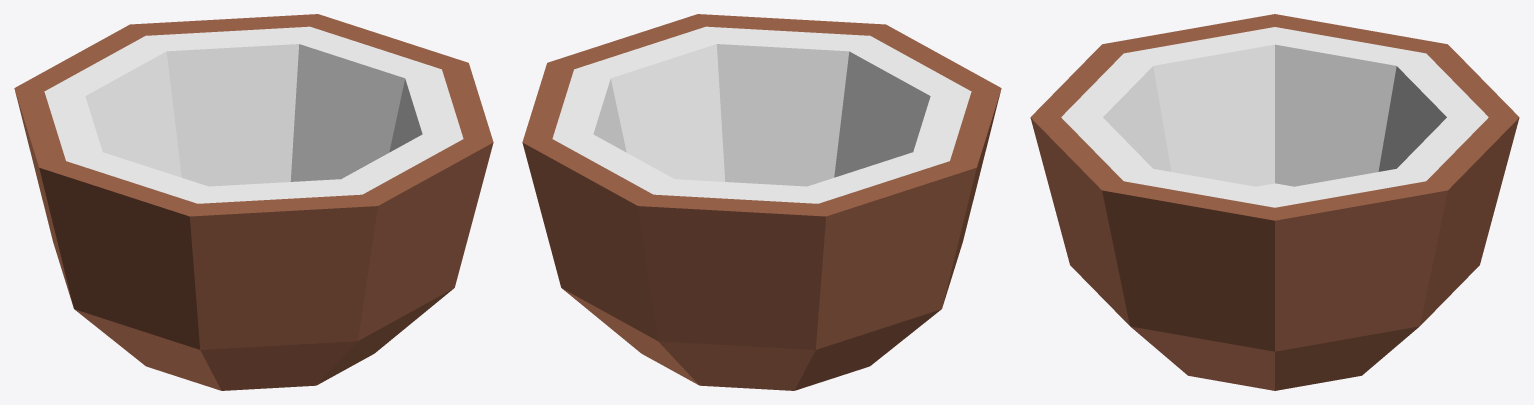
File: coconutHalf.fbx
The picture shows the model from 3 angles, left to right: view 1: azimuth 30°, elevation 25°; view 2: azimuth 150°, elevation 25°; view 3: azimuth 270°, elevation 25°; orthographic projection.
Parts seen in each view (by area): view 1: coconutHalf; view 2: coconutHalf; view 3: coconutHalf.
Boxes of the visible parts, x1,y1,x2,y2 form: coconutHalf: [14, 14, 493, 390]; coconutHalf: [522, 14, 1001, 390]; coconutHalf: [1030, 14, 1519, 390].
Size of the model in its own units: 2.48 by 1.24 by 2.48.
